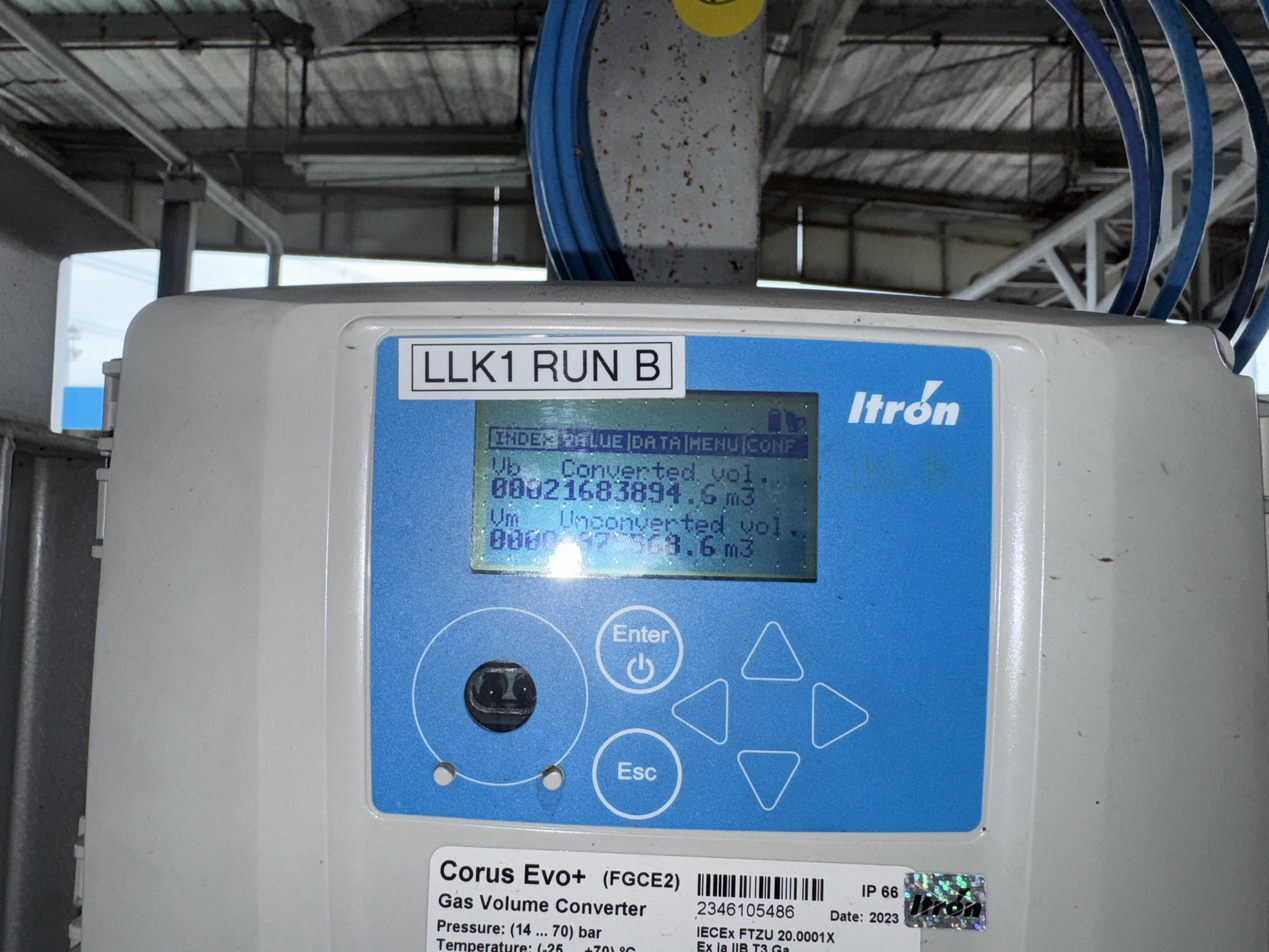digital_screen: (470, 384, 821, 583)
